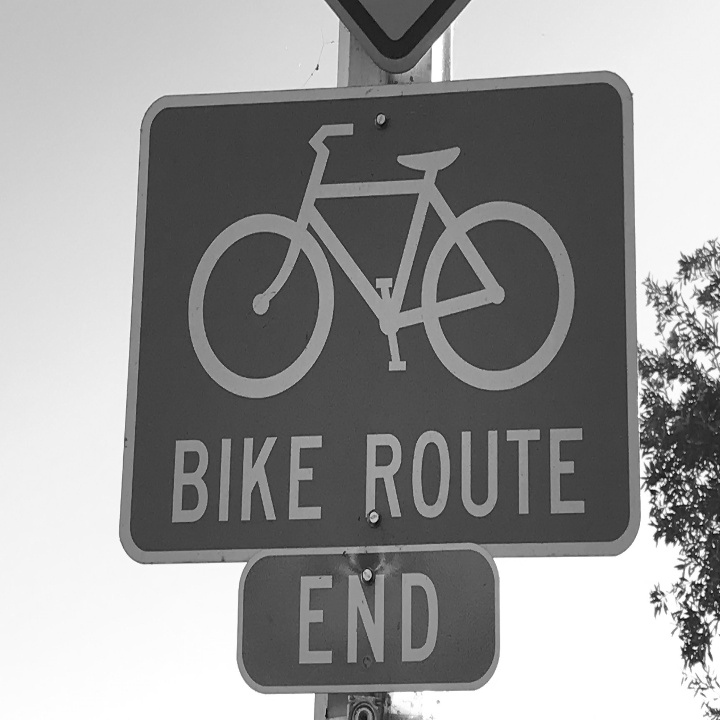bicycle: (168, 103, 599, 411)
